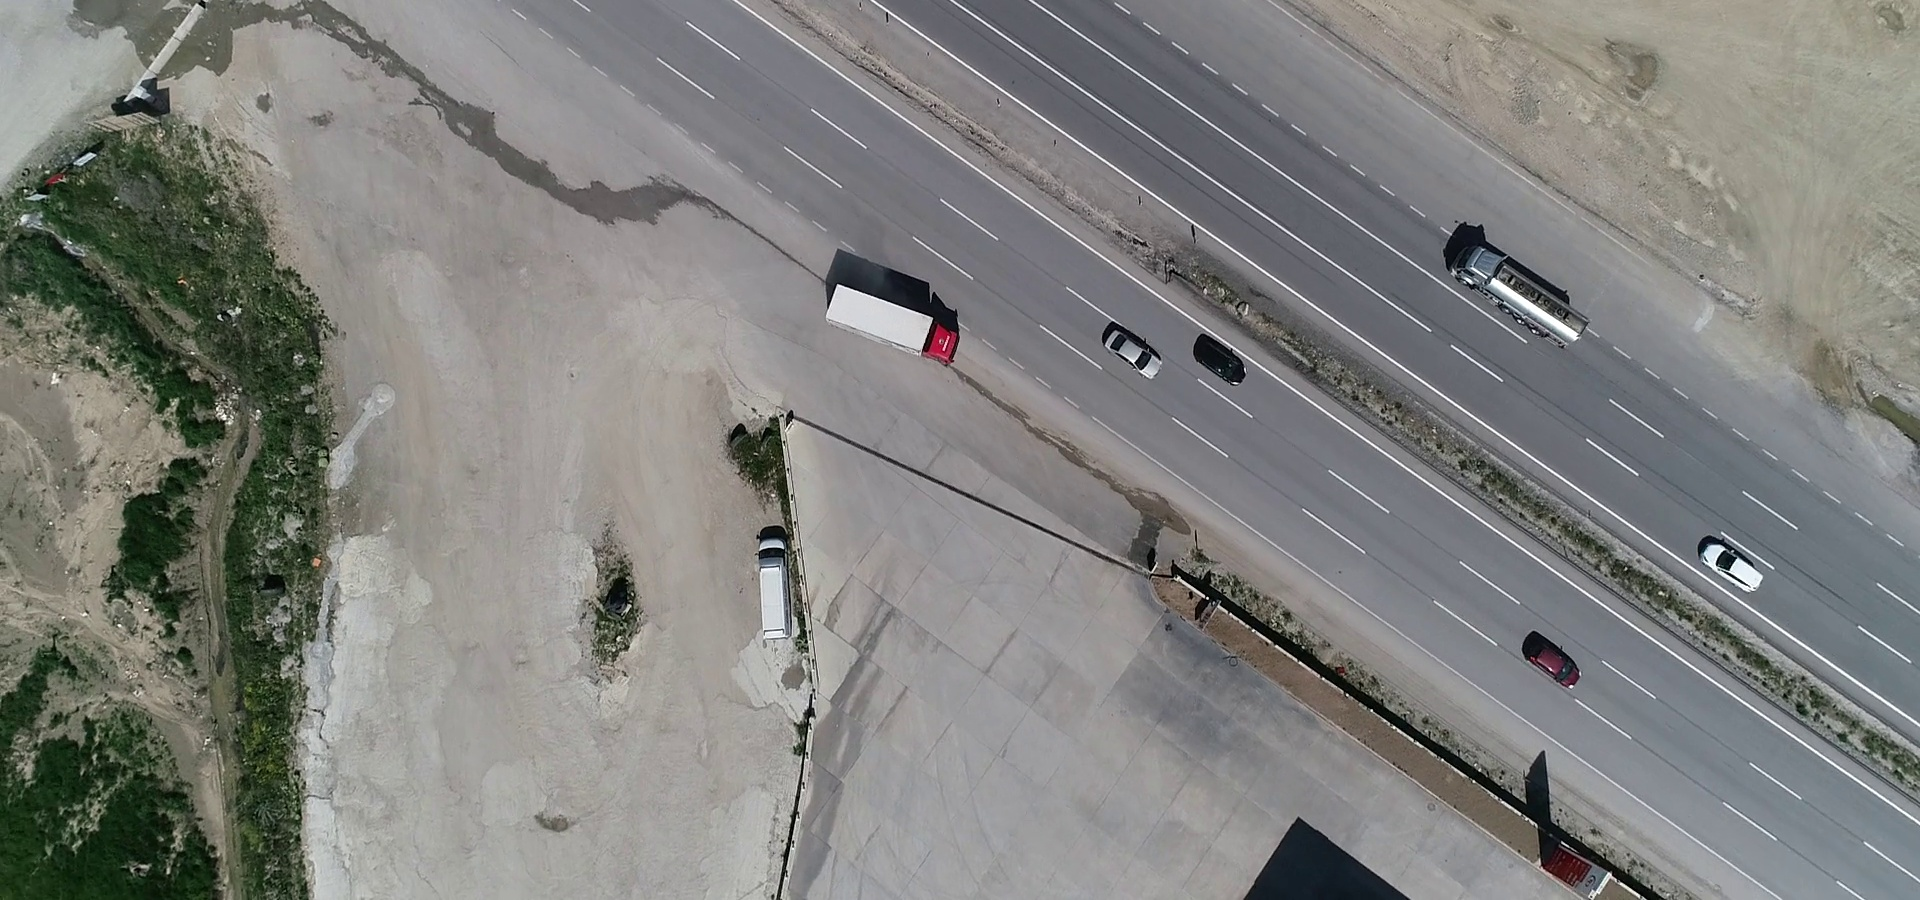arac: (1446, 224, 1600, 360), (819, 280, 966, 376), (1691, 527, 1776, 598), (751, 519, 793, 651), (1521, 626, 1587, 692), (1096, 317, 1164, 380), (1189, 329, 1258, 389)
